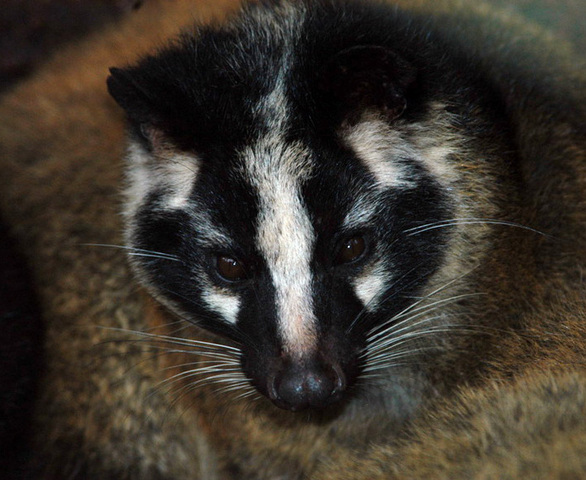Civet: (75, 5, 498, 426)
